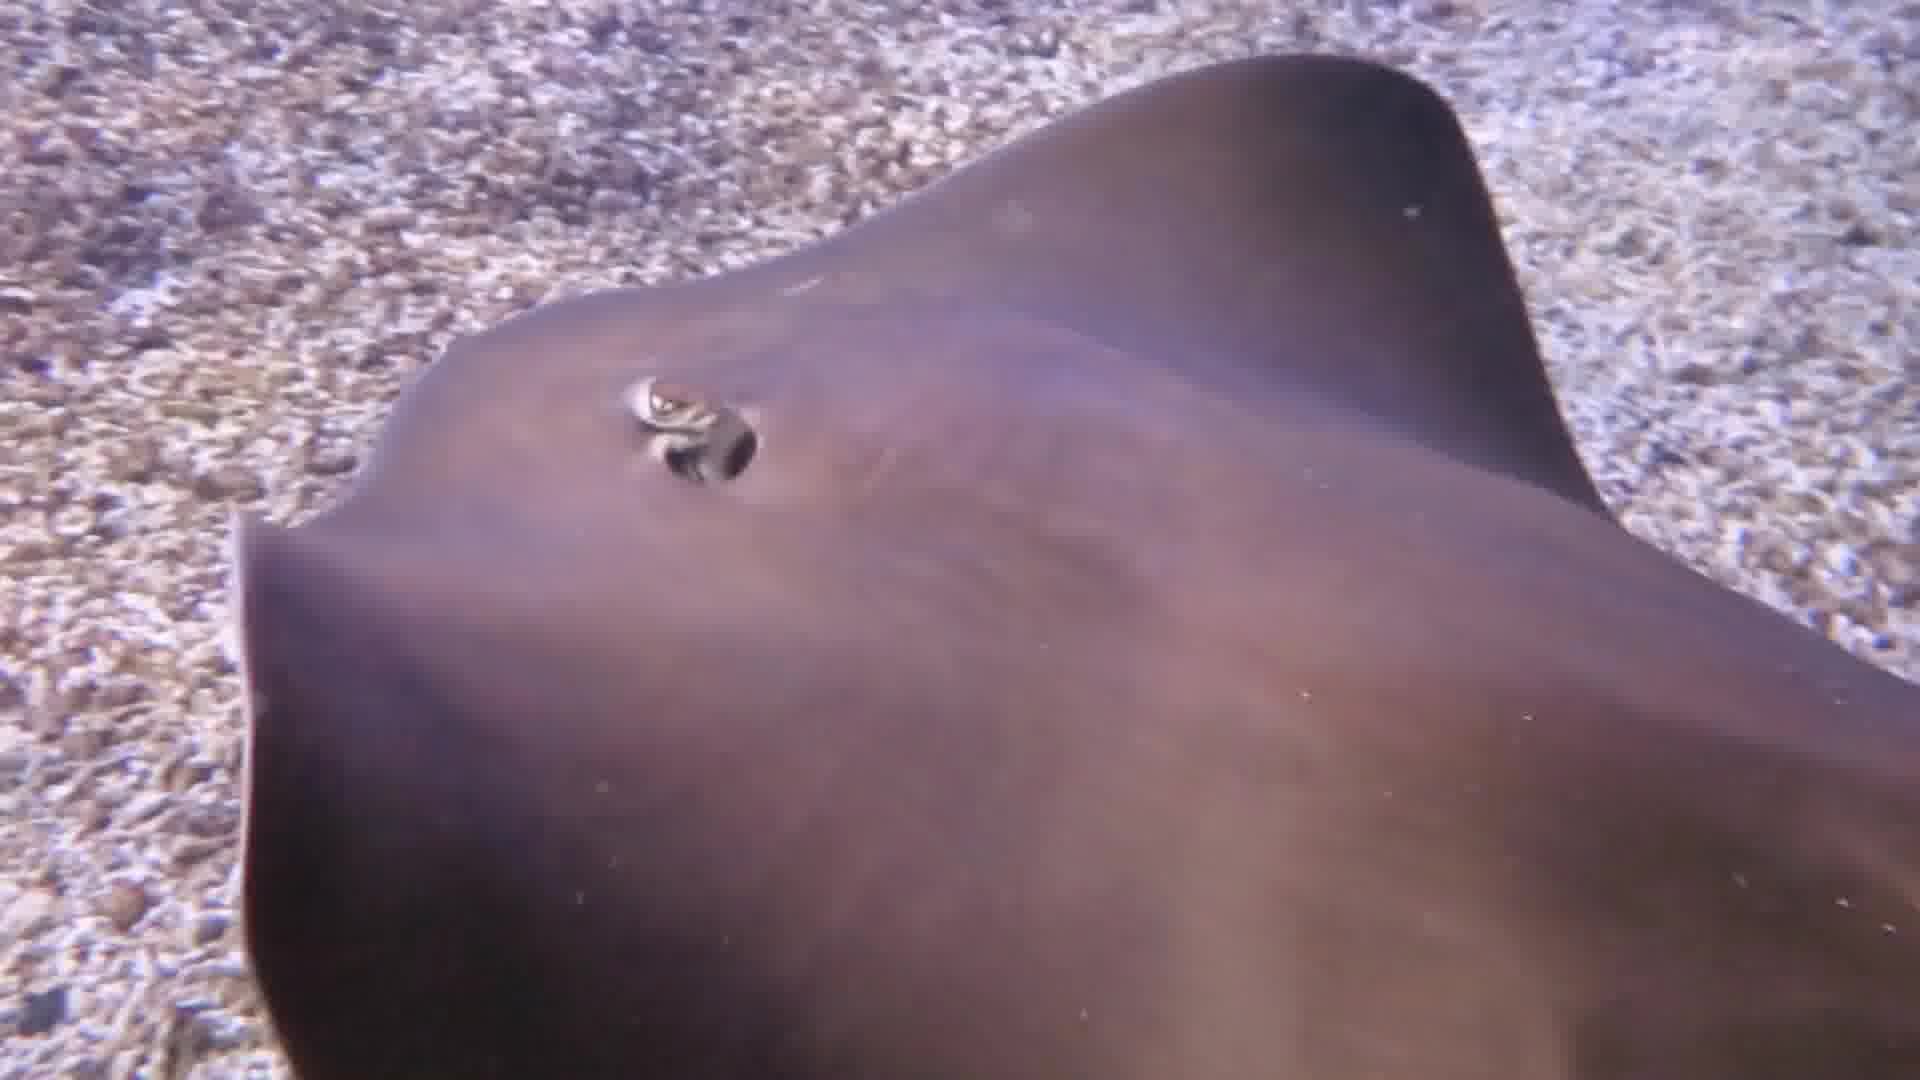Dasyatis akajei: (243, 44, 1920, 1080)
